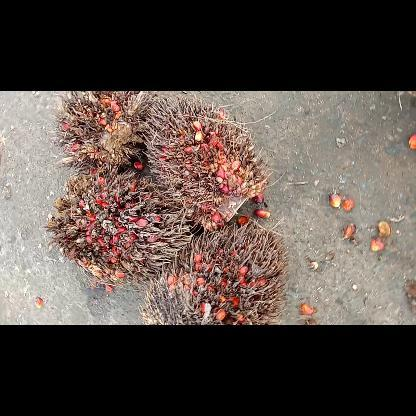Terlalu masak: (42, 165, 196, 292), (140, 93, 272, 233), (138, 220, 292, 324), (46, 90, 166, 174)
